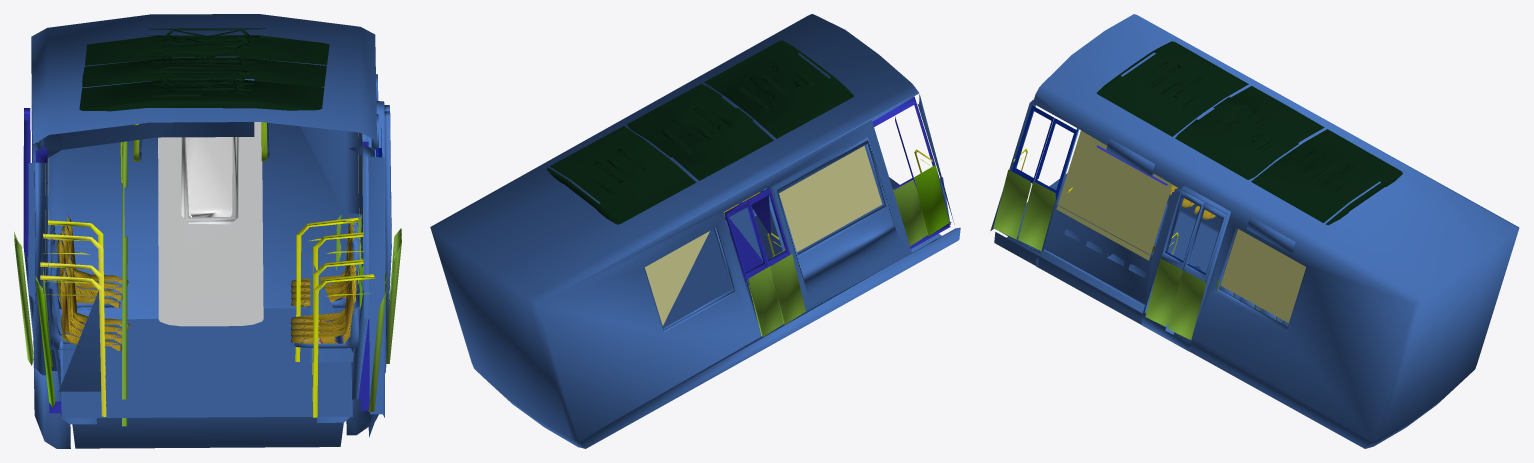
The model's file is carriage.gltf.
3 views of the same model, side by side, from view 1: azimuth 30°, elevation 25°; view 2: azimuth 150°, elevation 25°; view 3: azimuth 270°, elevation 25° (orthographic). The views are drawn at different scales.
Parts seen in each view (by area): view 1: subway_lowpoly.013; view 2: subway_lowpoly.013; view 3: subway_lowpoly.013.
Part boxes in pixels (x1=…): subway_lowpoly.013: x1=14, y1=14, x2=401, y2=448; subway_lowpoly.013: x1=430, y1=14, x2=960, y2=448; subway_lowpoly.013: x1=990, y1=14, x2=1519, y2=448.
Bounding box in the file's own units: 647 × 492 × 802.
Materials: 36 (4 with a texture image).
